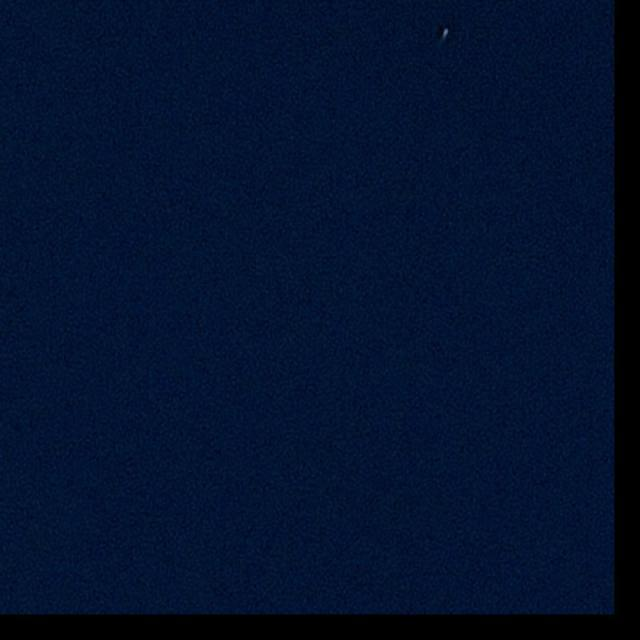ship: (440, 27, 450, 36)
